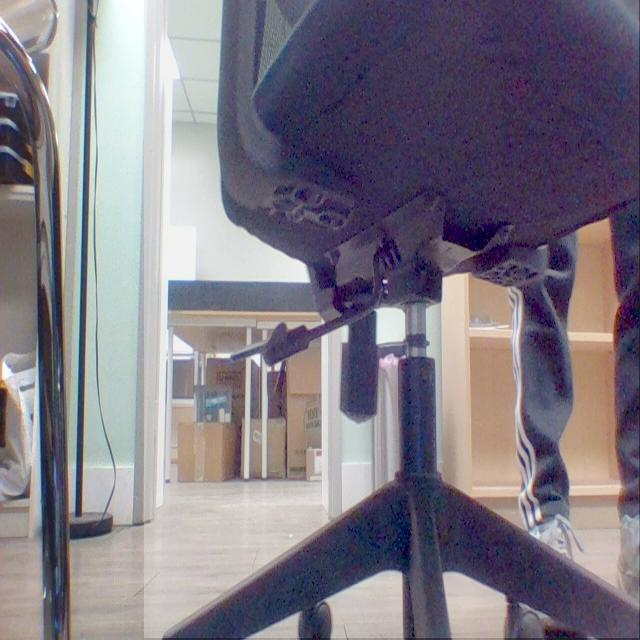chair: (173, 0, 640, 640)
